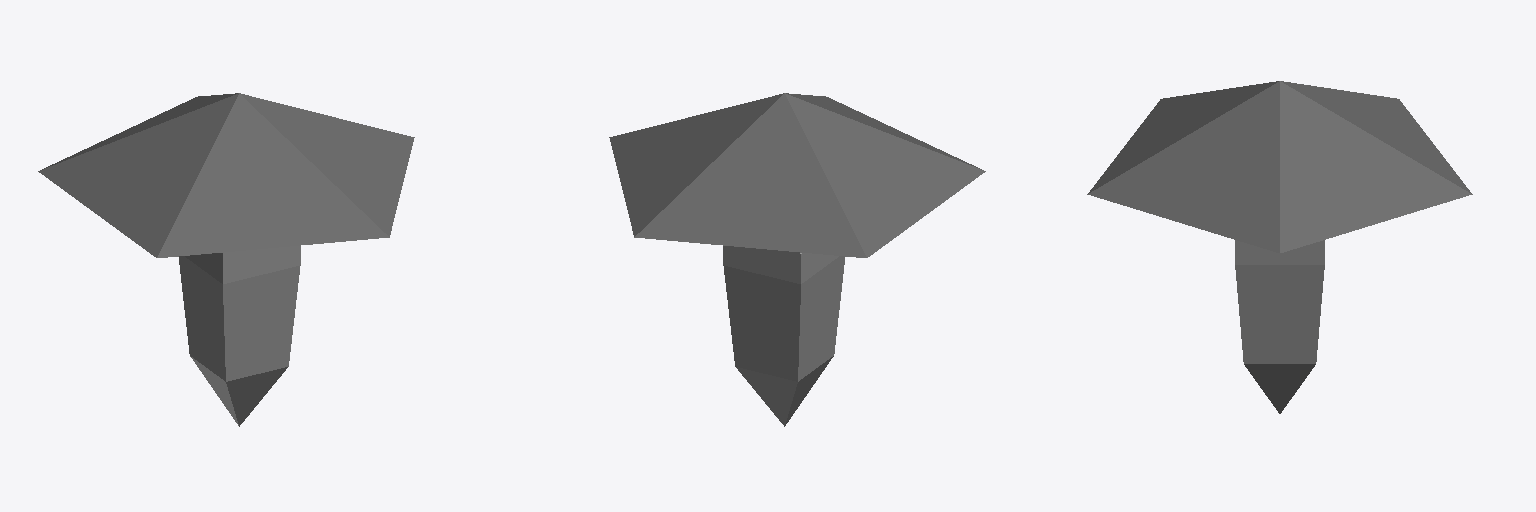
File: mushroom.obj
3 renders of one model, left to right at view 1: azimuth 30°, elevation 25°; view 2: azimuth 150°, elevation 25°; view 3: azimuth 270°, elevation 25°, orthographic.
Parts seen in each view (by area): view 1: Icosphere.001; view 2: Icosphere.001; view 3: Icosphere.001.
Part boxes in pixels (left/top/right/bottom): Icosphere.001: left=38, top=93, right=414, bottom=426; Icosphere.001: left=609, top=93, right=985, bottom=426; Icosphere.001: left=1087, top=81, right=1472, bottom=413.
Size of the model in its own units: 1.53 by 1.54 by 1.61.